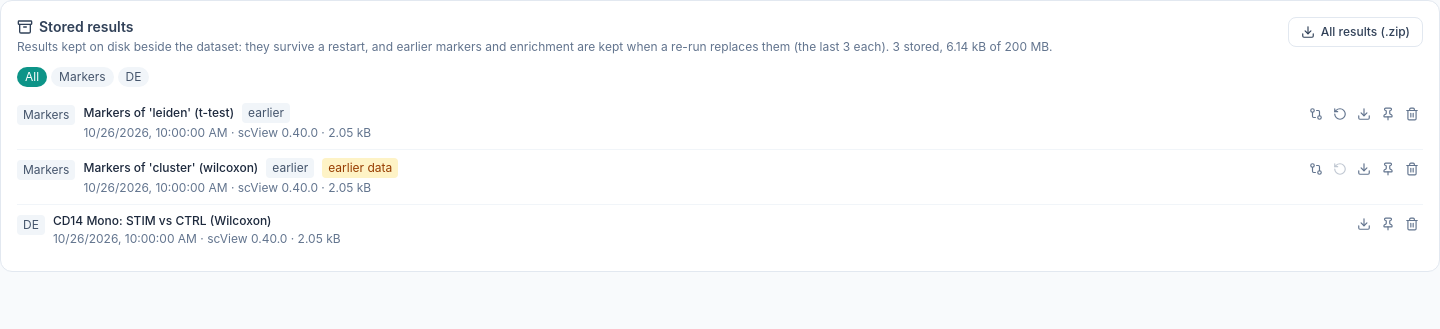
Test: ResultsList › restores an earlier markers result and bumps its column; a stale one cannot be restored
Expected: the button named "Make Markers of 'cluster' (wilcoxon) current again" is disabled, [1329, 158, 1351, 180]
Click the button named "Make Markers of 'leiden' (t-test) current again" at {"x": 1340, "y": 114}, box [1329, 103, 1351, 125]
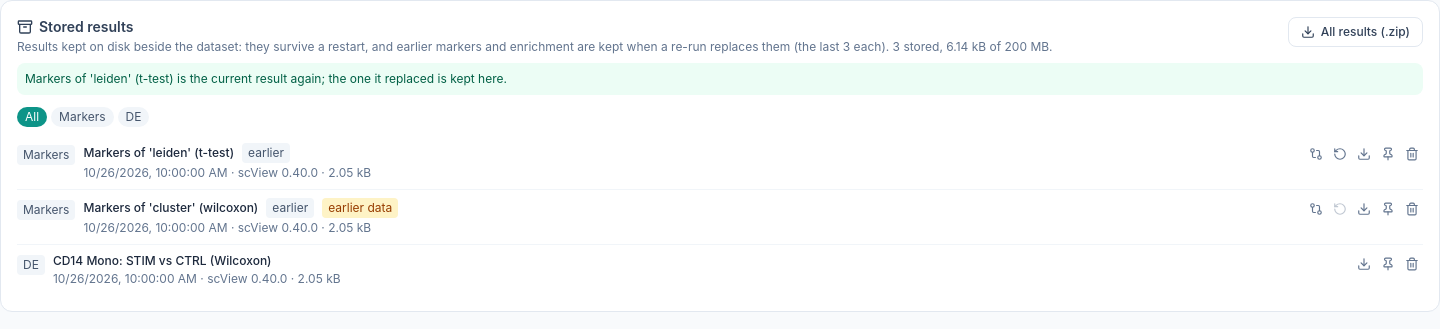
Expected: the message shows "is the current result again", [25, 71, 507, 86]
